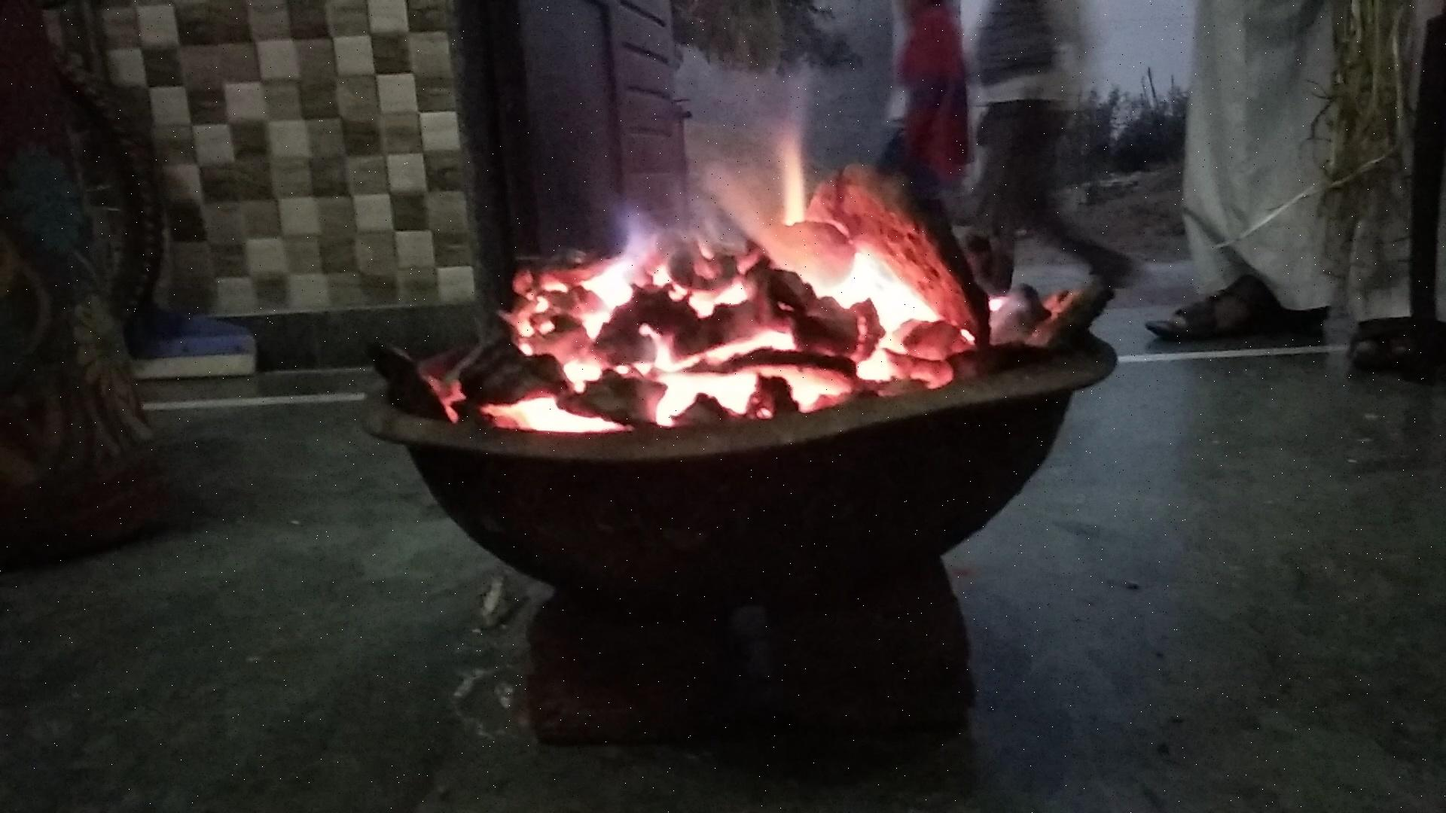fire: (458, 112, 971, 446)
